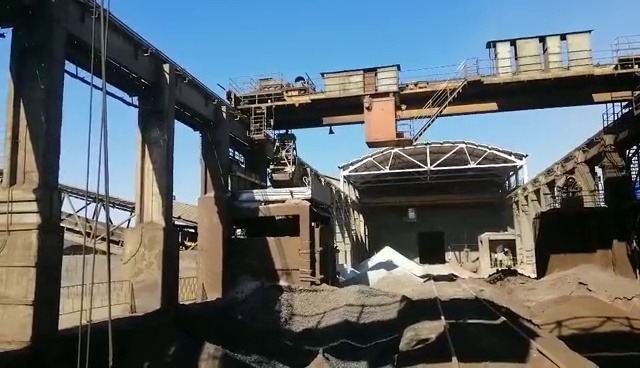grab: (263, 130, 305, 189)
